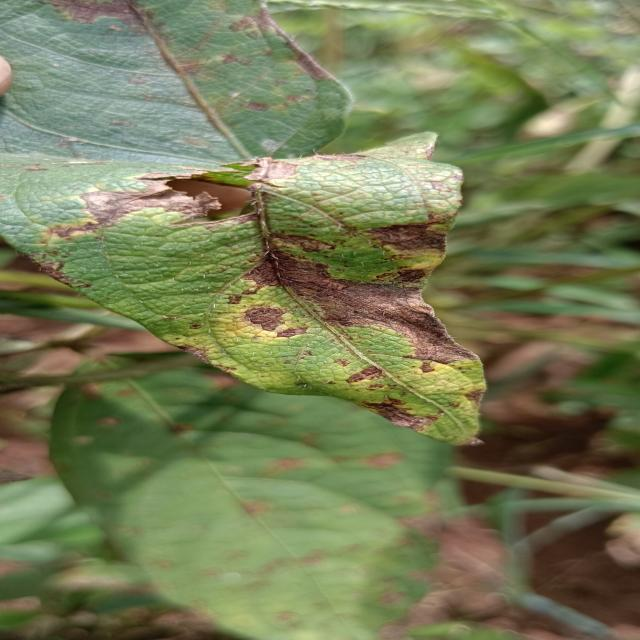Black gram_leaf spot: (0, 0, 503, 454), (35, 358, 448, 640)
